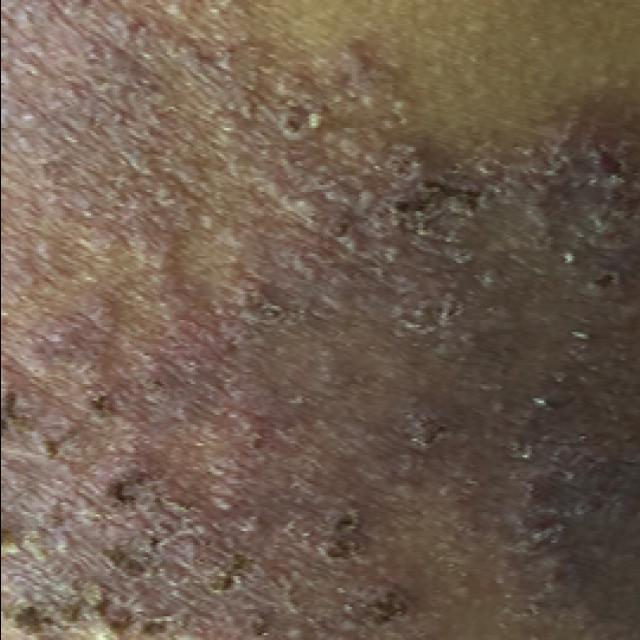Psoriasis: (1, 0, 630, 640)
